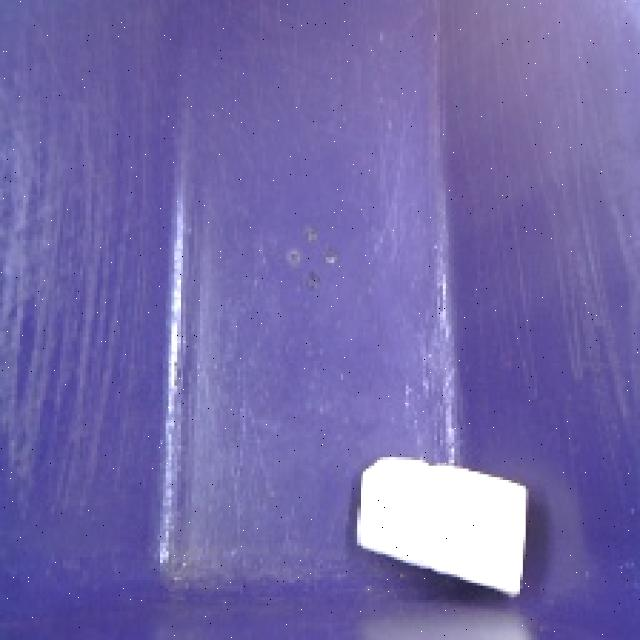white_radish: (346, 446, 550, 618)
